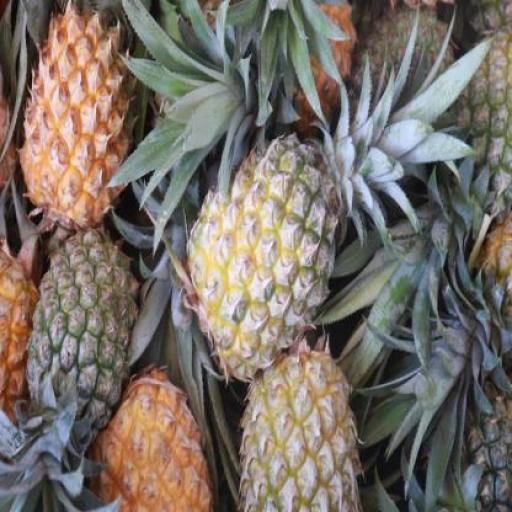------------------------------: (185, 125, 338, 372), (239, 339, 360, 511)
Pineapple - v8 v1: (21, 1, 133, 228), (85, 370, 205, 511)
